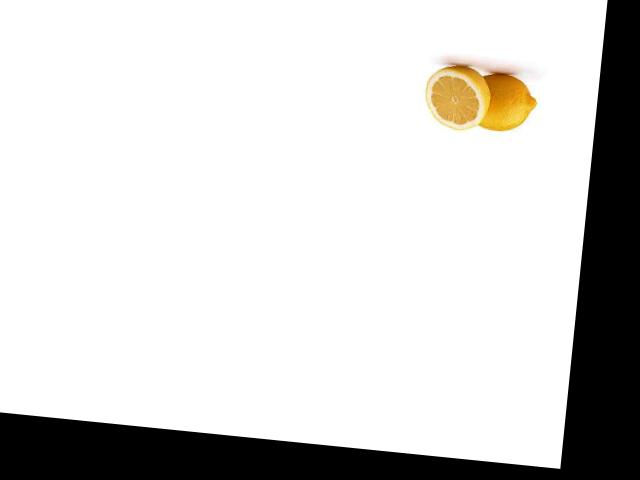lemon: (473, 64, 540, 139)
